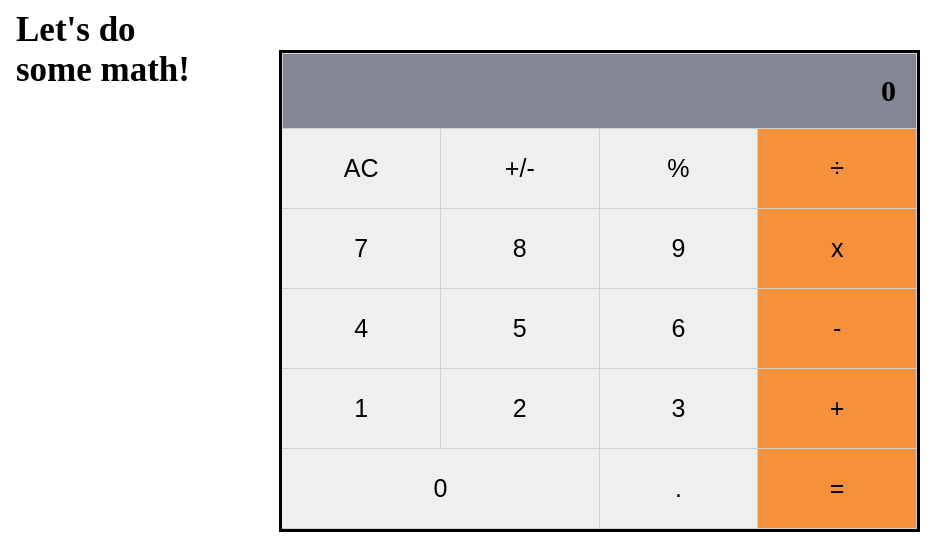
Testing for calculator › See if is the number is adding
Step 1. Click the button "4" → (362, 329), box [282,289,441,369]
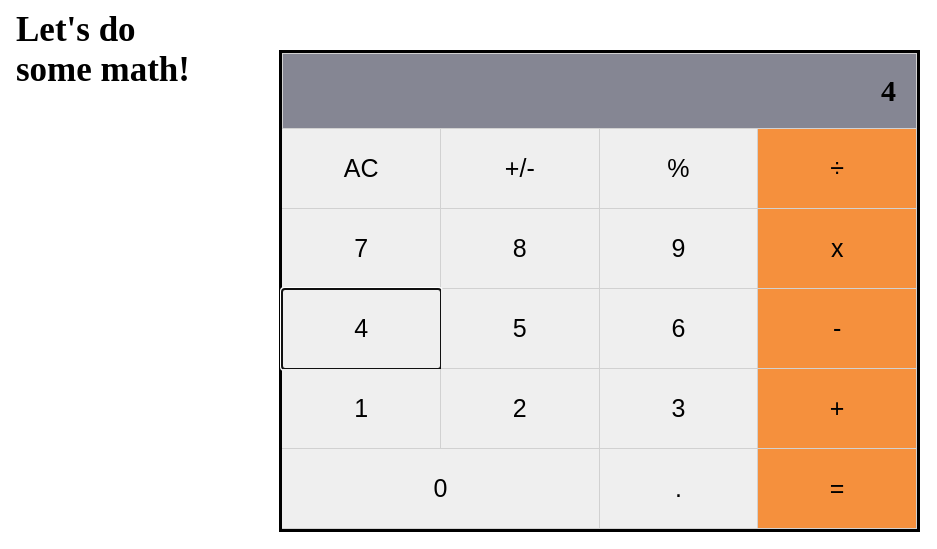
Step 2. Click the button "+" → (838, 409), box [758,369,917,449]
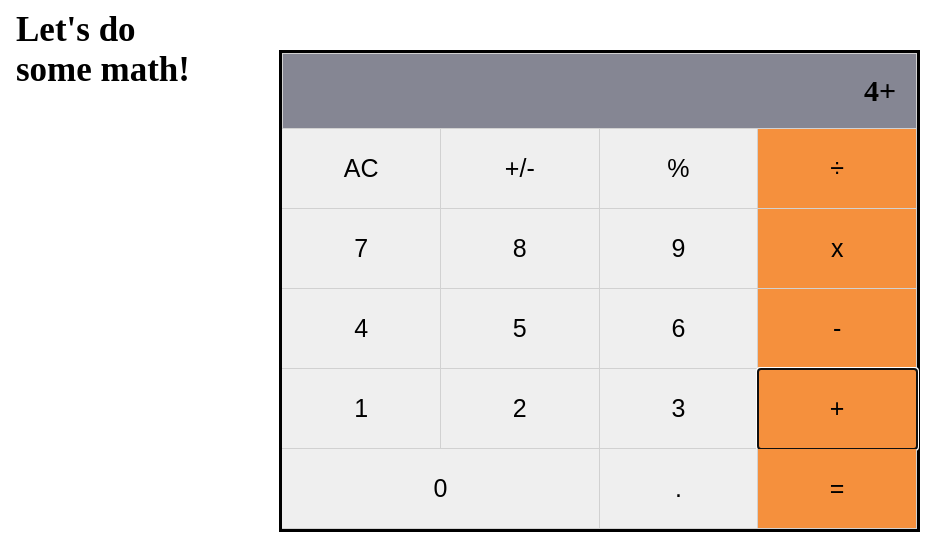
Step 3. Click the button "6" → (679, 329), box [600,289,758,369]
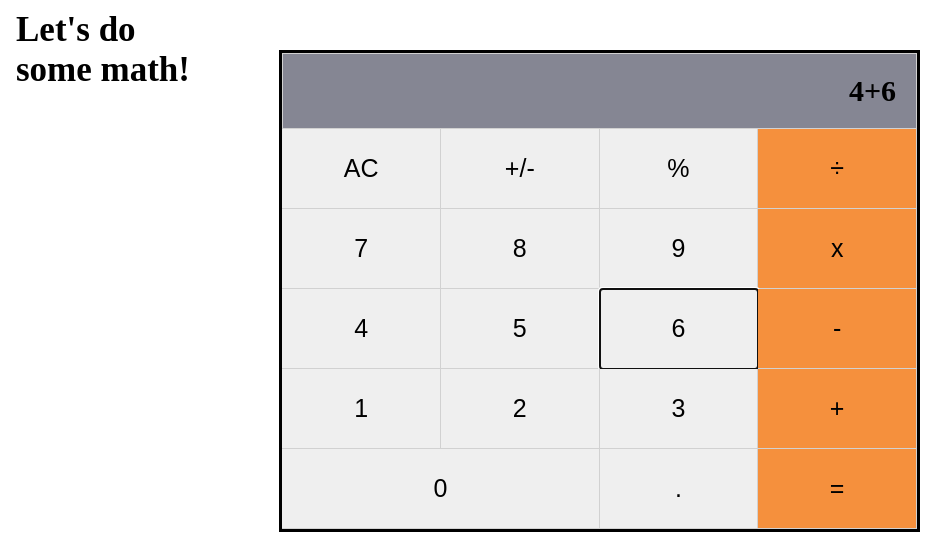
Step 4. Click the button "=" → (838, 489), box [758,449,917,529]
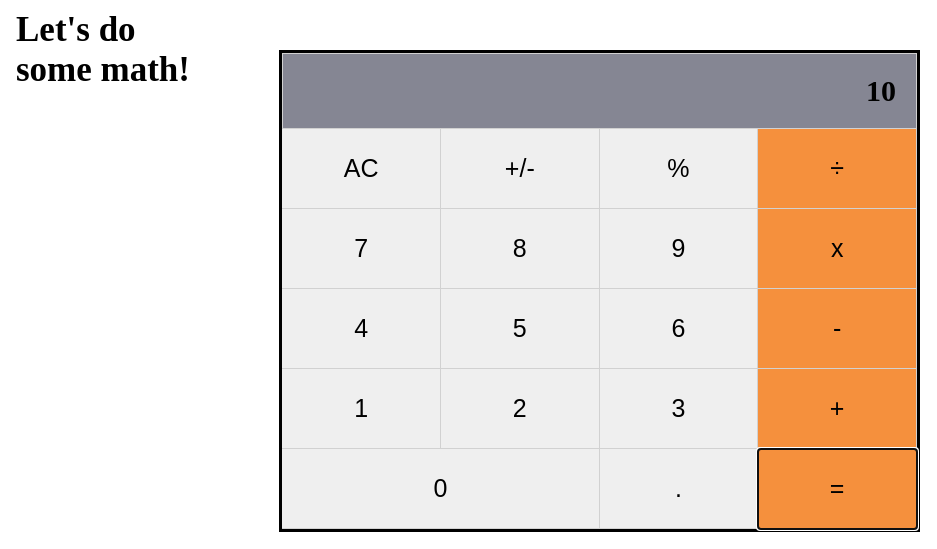
expect the heading with test id "testH2" reads "10": met, box [866,74,896,107]
